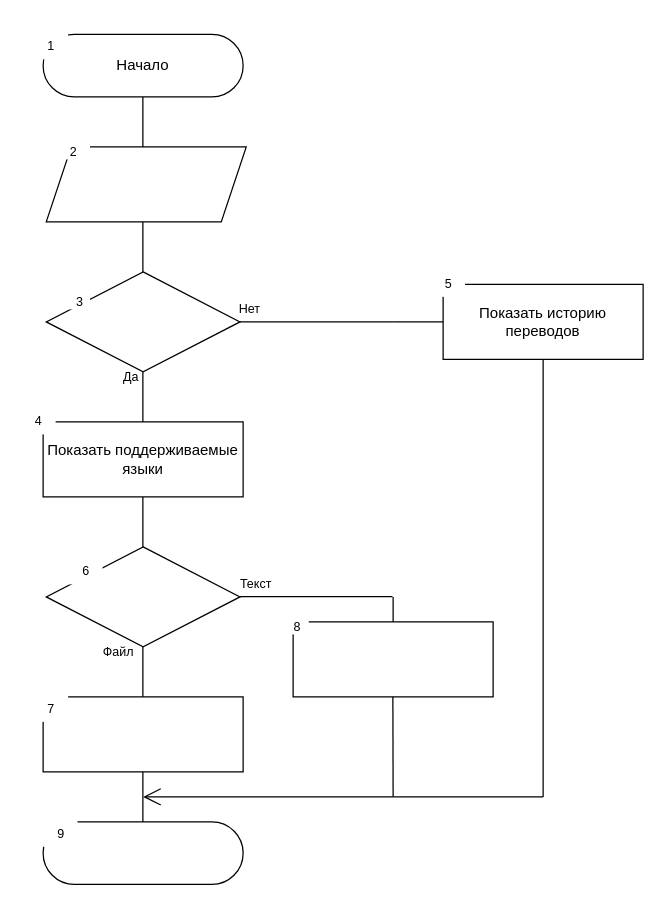
This 665x906 diagram has some shape labels left out. The shapes that lost their labels are listed below. From the top down, each one's box as (x1, y1, x2, y2) in pixels, then its label:
(45, 146, 246, 222): Аргументы командной строки
(45, 271, 240, 372): --list-lang?
(45, 546, 240, 647): file / text ?
(292, 621, 493, 697): Перевести текст командной строки
(42, 696, 243, 772): Перевод из файла
(42, 821, 243, 884): Конец
